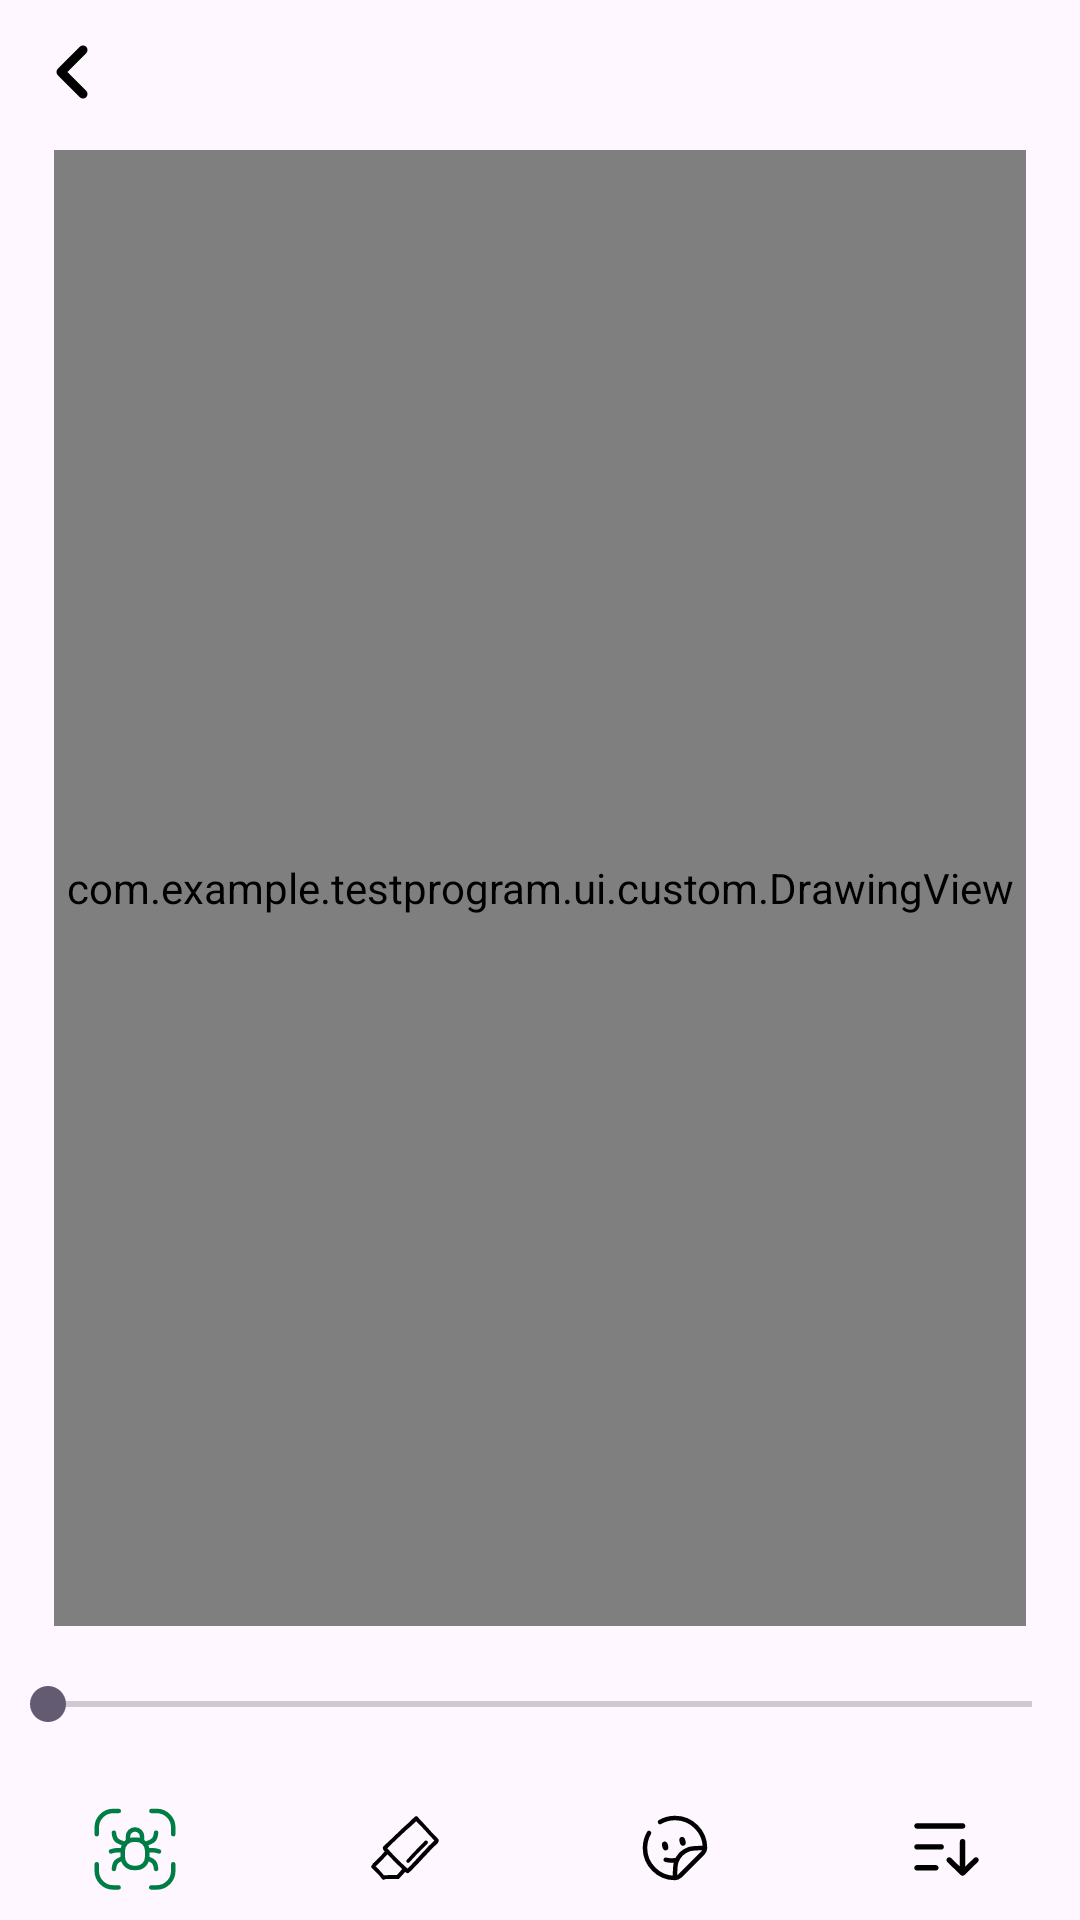

Named icons in this screenshot (1080px×1920px) and their centers, (x=x, y=y):
back: (x=72, y=72)
erase: (x=405, y=1848)
sticker: (x=675, y=1848)
